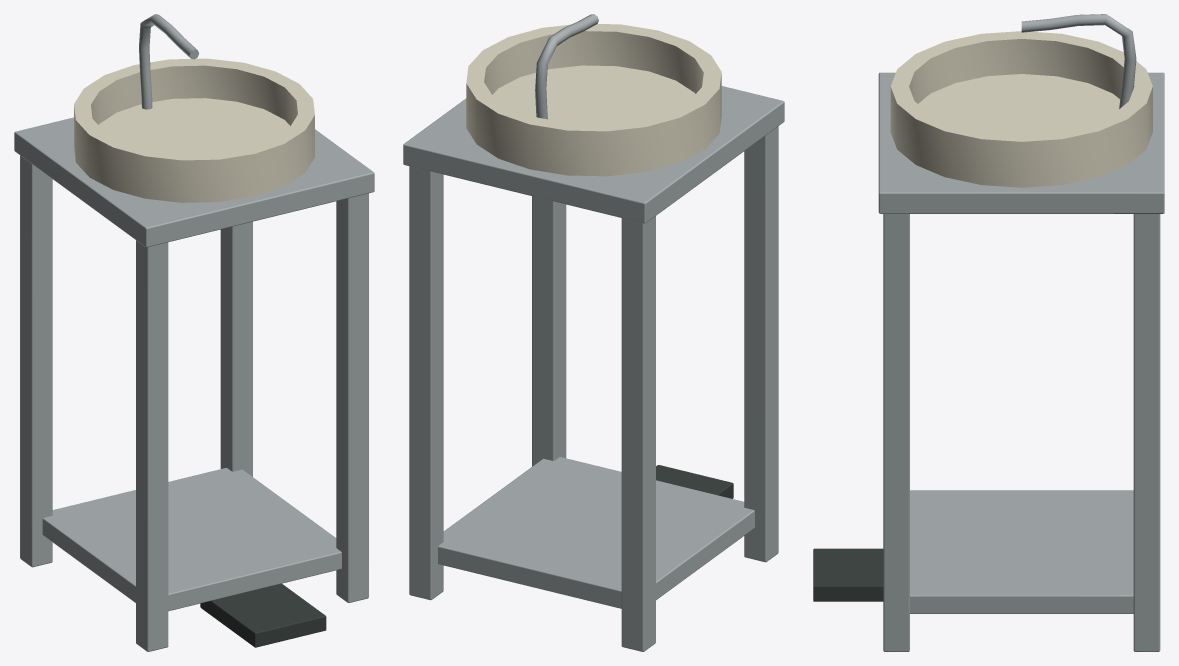
Rendered from field-medicine-and-recovery-handwash-pedal-stand-8a66e27d__3066.glb.
3 renders of one model, left to right at view 1: azimuth 30°, elevation 25°; view 2: azimuth 150°, elevation 25°; view 3: azimuth 270°, elevation 25°, orthographic. The views are drawn at different scales.
Parts seen in each view (by area): view 1: handwash-pedal-stand, pedal/dark; view 2: handwash-pedal-stand, pedal/dark; view 3: handwash-pedal-stand, pedal/dark.
Boxes of the visible parts, x1=… form: handwash-pedal-stand: x1=14, y1=14, x2=374, y2=651; pedal/dark: x1=200, y1=583, x2=326, y2=647; handwash-pedal-stand: x1=403, y1=14, x2=784, y2=651; pedal/dark: x1=656, y1=465, x2=733, y2=498; handwash-pedal-stand: x1=878, y1=14, x2=1164, y2=651; pedal/dark: x1=813, y1=548, x2=883, y2=601.
Size of the model in its own units: 0.4799 by 1.07 by 0.59.
